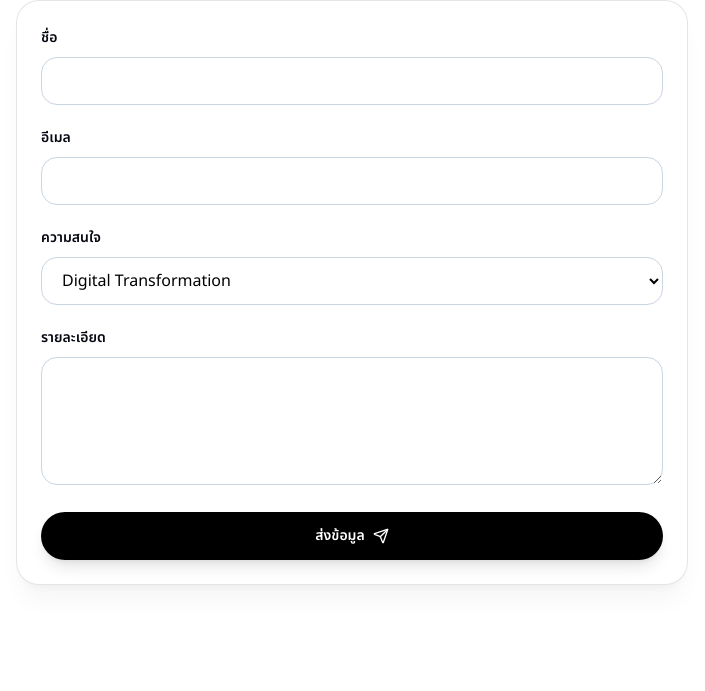
Test case: ContactForm › validates required fields before submit
Click the button "ส่งข้อมูล" at (352, 536), box x1=41 y1=512 x2=663 y2=560
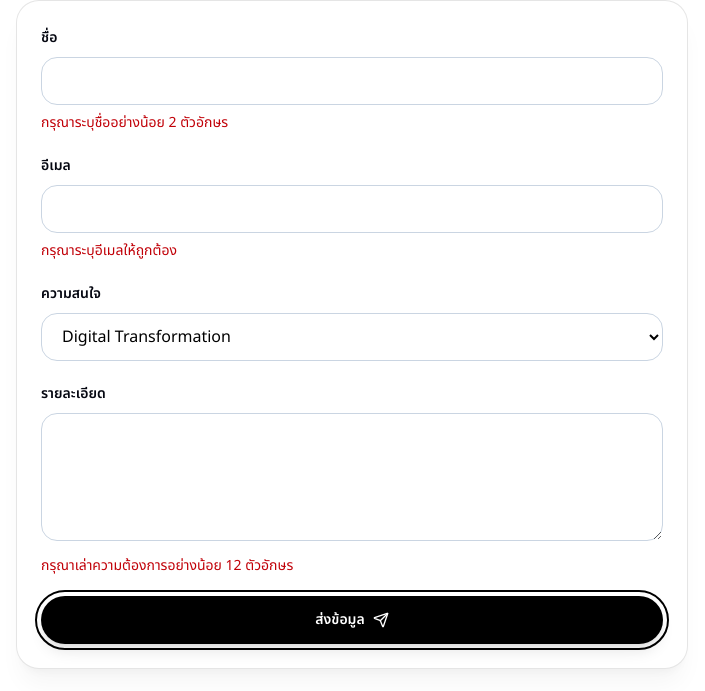
Result: the text "กรุณาระบุชื่ออย่างน้อย 2 ตัวอักษร" is shown at x1=41 y1=112 x2=228 y2=133
Result: the text "กรุณาระบุอีเมลให้ถูกต้อง" is shown at x1=41 y1=240 x2=177 y2=261
Result: the text "กรุณาเล่าความต้องการอย่างน้อย 12 ตัวอักษร" is shown at x1=41 y1=555 x2=293 y2=576
